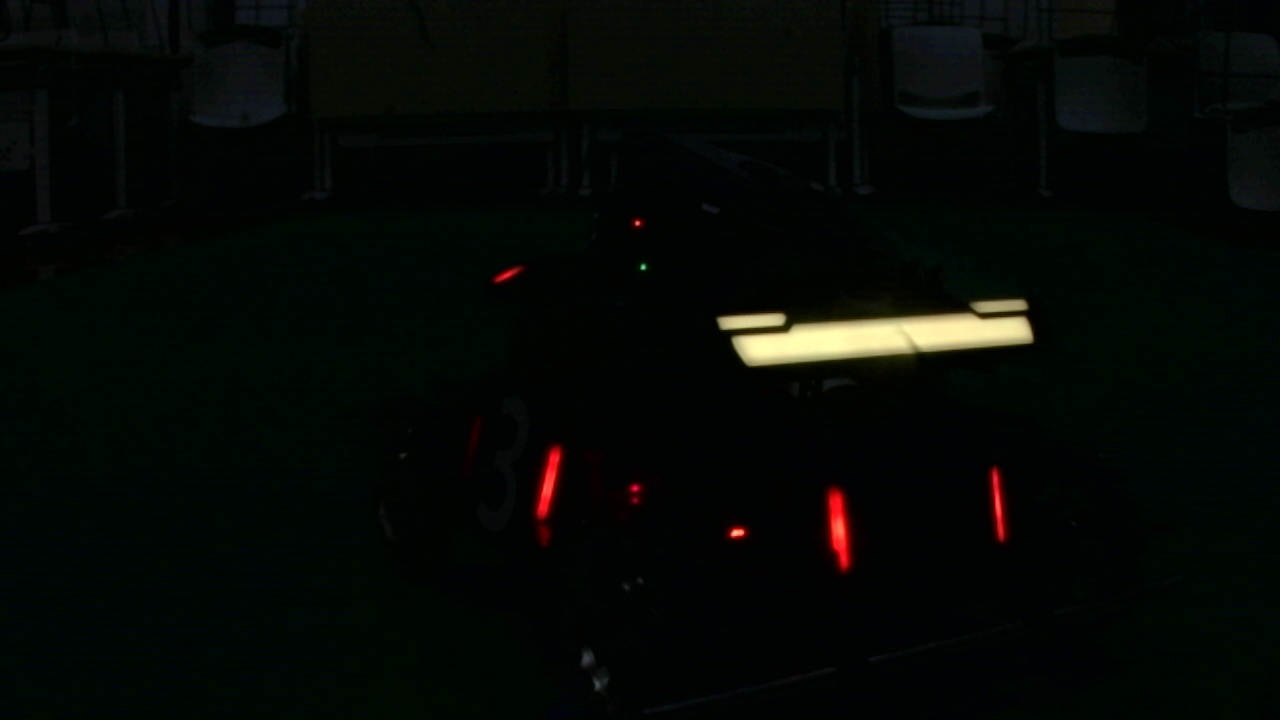lamp: (824, 477, 857, 576), (531, 443, 562, 523), (983, 464, 1008, 539)
notpair1: (533, 444, 855, 573)
pair1: (825, 466, 1010, 575)
